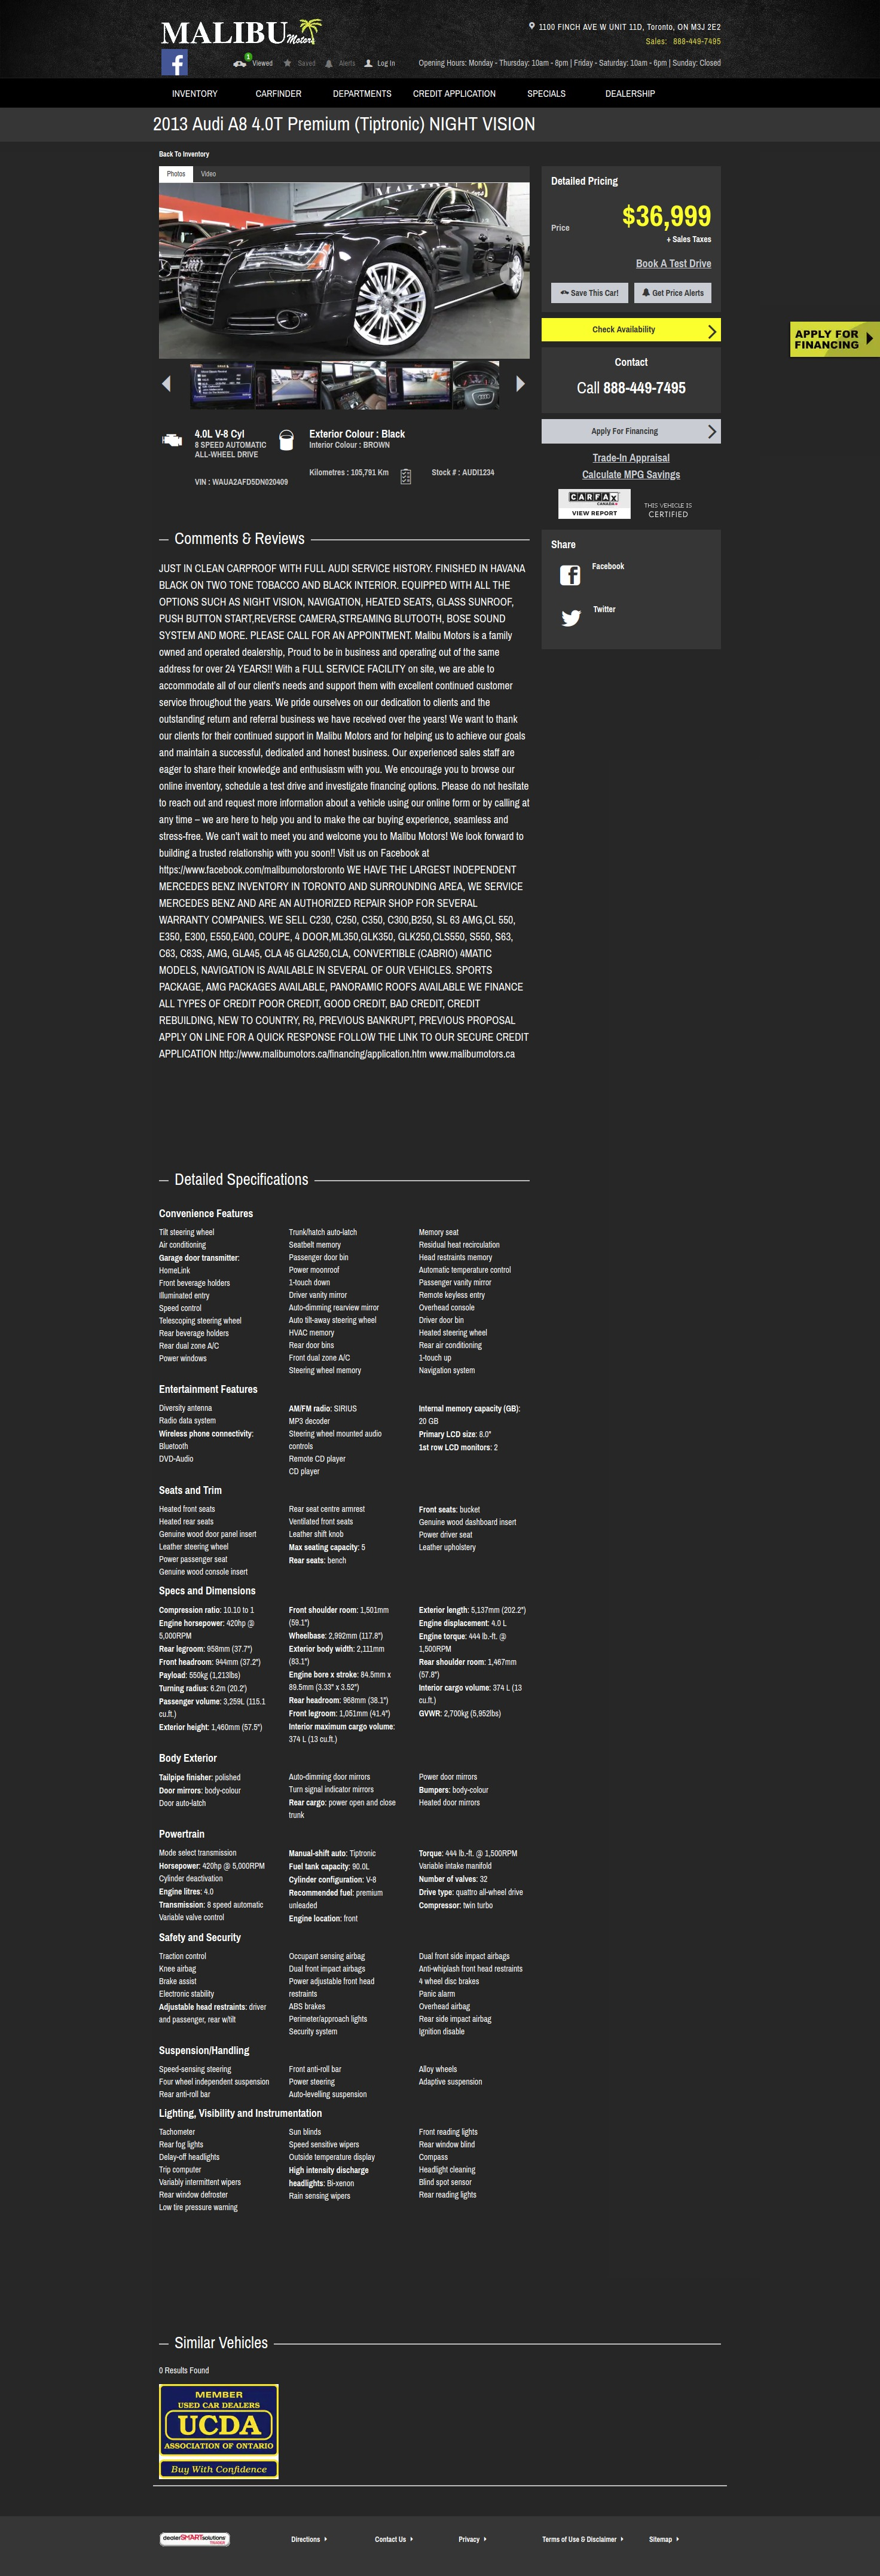car: (516, 376, 525, 394)
